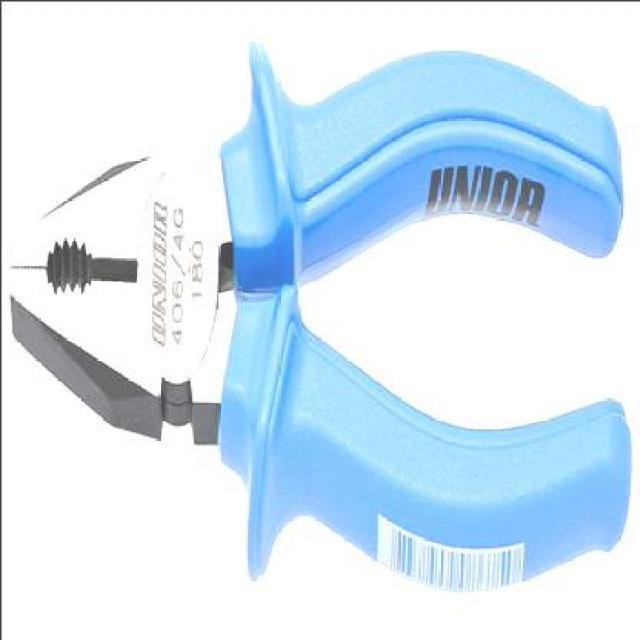pliers: (6, 38, 629, 598)
